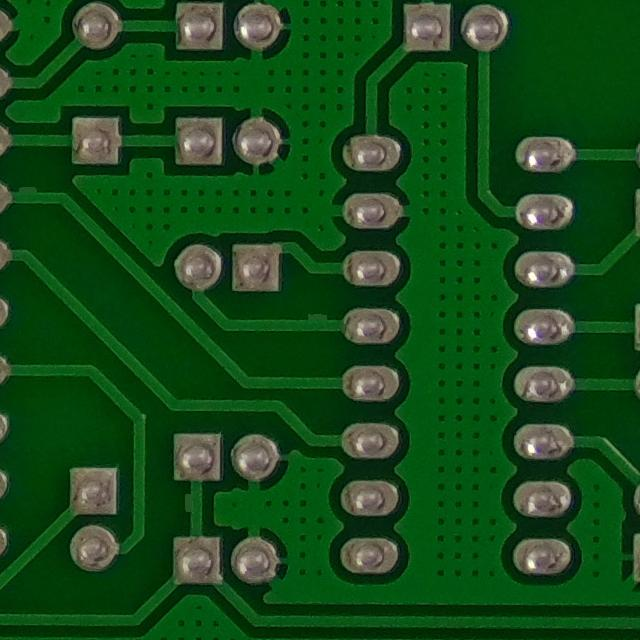spur: (296, 300, 344, 341)
